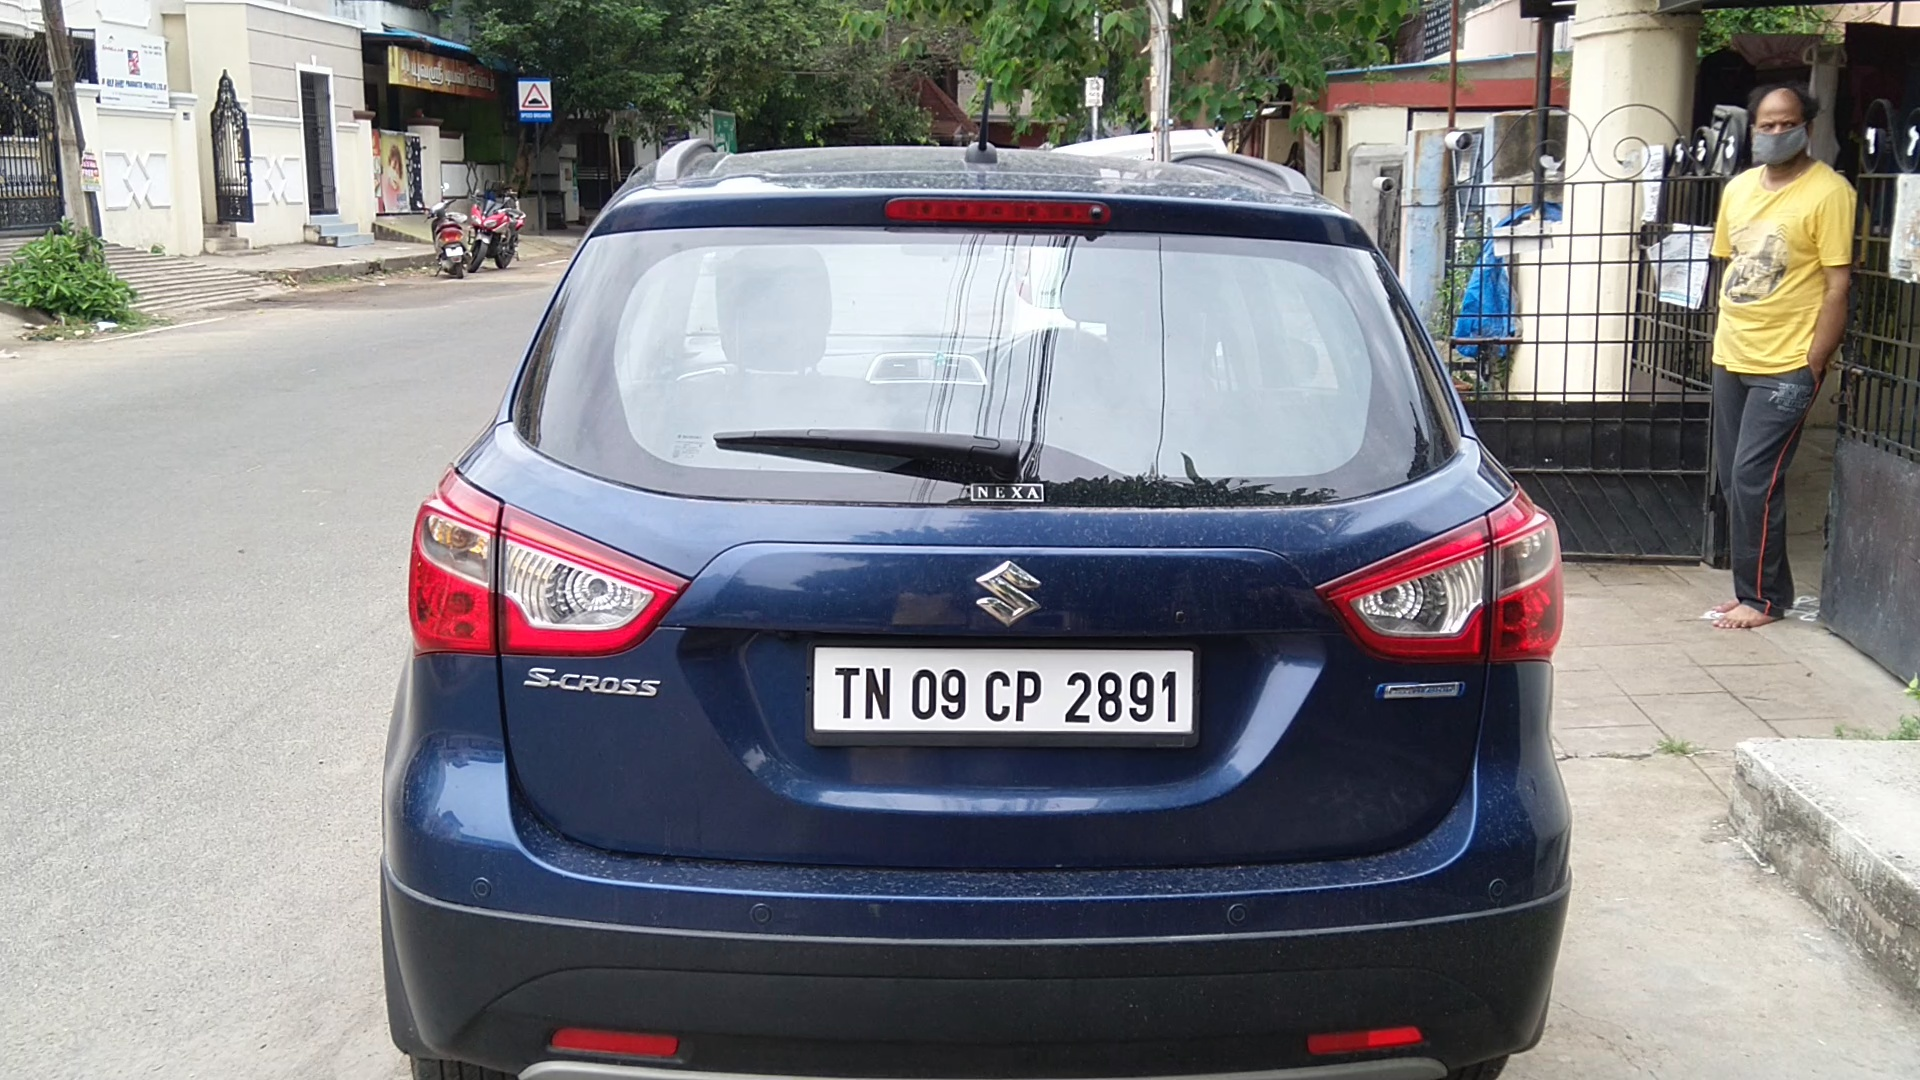rear_camera: (1083, 196, 1117, 231)
shvs: (1361, 663, 1480, 719)
